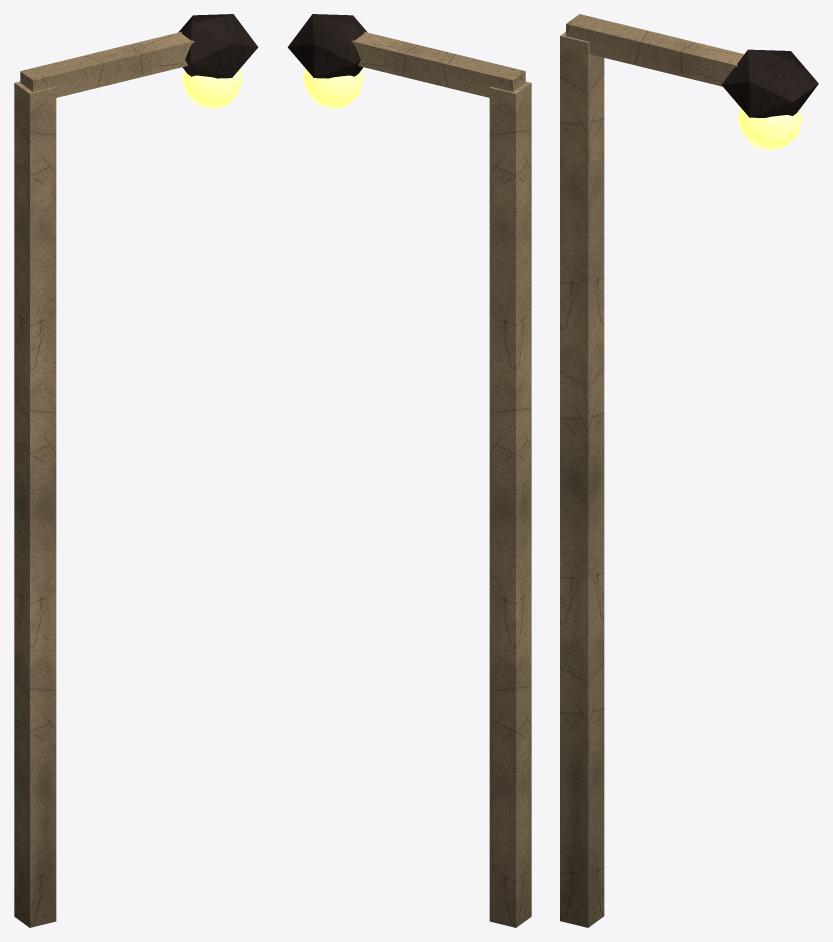
Rendered from street_lamp.glb.
3 views of the same model, side by side, from view 1: azimuth 30°, elevation 25°; view 2: azimuth 150°, elevation 25°; view 3: azimuth 330°, elevation 25° (orthographic). The views are drawn at different scales.
Visible parts, largest first — view 1: street_lamp; view 2: street_lamp; view 3: street_lamp.
Boxes of the visible parts, box(x1,y1,x2,y2) form: street_lamp: box(14, 14, 258, 927); street_lamp: box(287, 14, 531, 927); street_lamp: box(560, 14, 818, 927).
Bounding box in the file's own units: 2.53 × 9.25 × 0.7656.
Materials: 3 (3 with a texture image).
